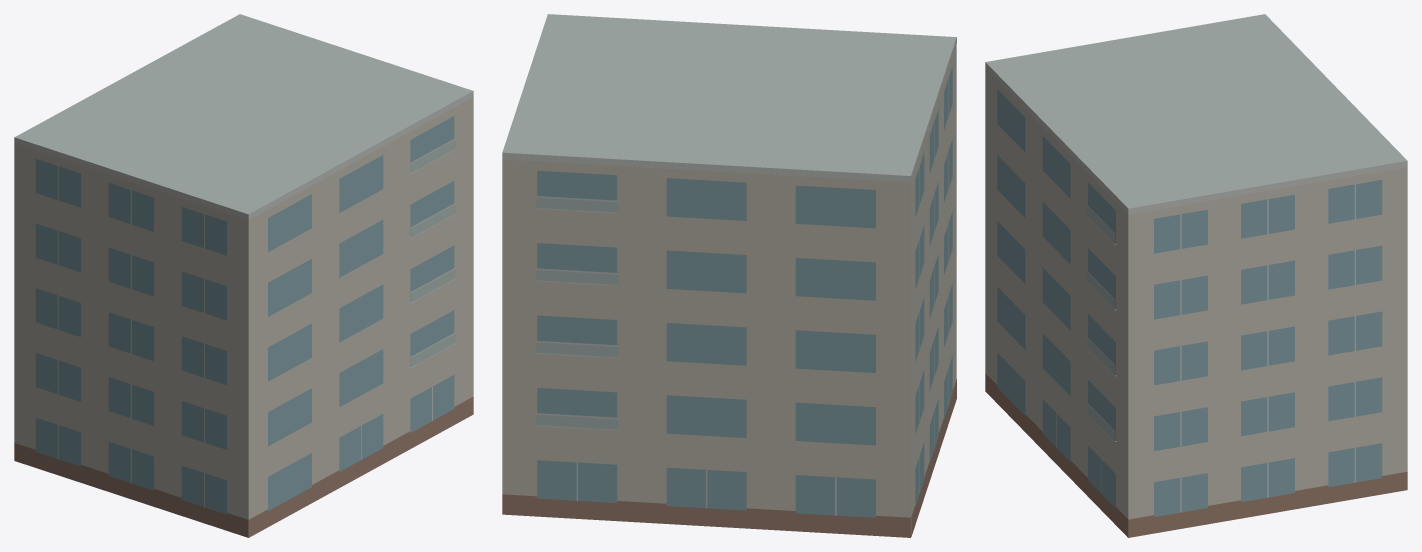
File: survey-upis-32953119.glb
3 views of the same model, side by side, from view 1: azimuth 30°, elevation 25°; view 2: azimuth 150°, elevation 25°; view 3: azimuth 270°, elevation 25° (orthographic). The views are drawn at different scales.
Visible parts, largest first — view 1: survey-upis-32953119.tmp; view 2: survey-upis-32953119.tmp; view 3: survey-upis-32953119.tmp.
Boxes of the visible parts, left/top/right/bottom form: survey-upis-32953119.tmp: left=14, top=14, right=473, bottom=537; survey-upis-32953119.tmp: left=502, top=14, right=956, bottom=537; survey-upis-32953119.tmp: left=985, top=14, right=1407, bottom=537.
Size of the model in its own units: 16.81 by 13.25 by 15.41.
